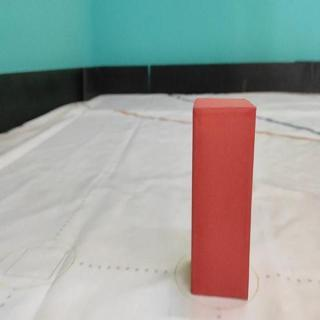redbox: (191, 98, 254, 301)
